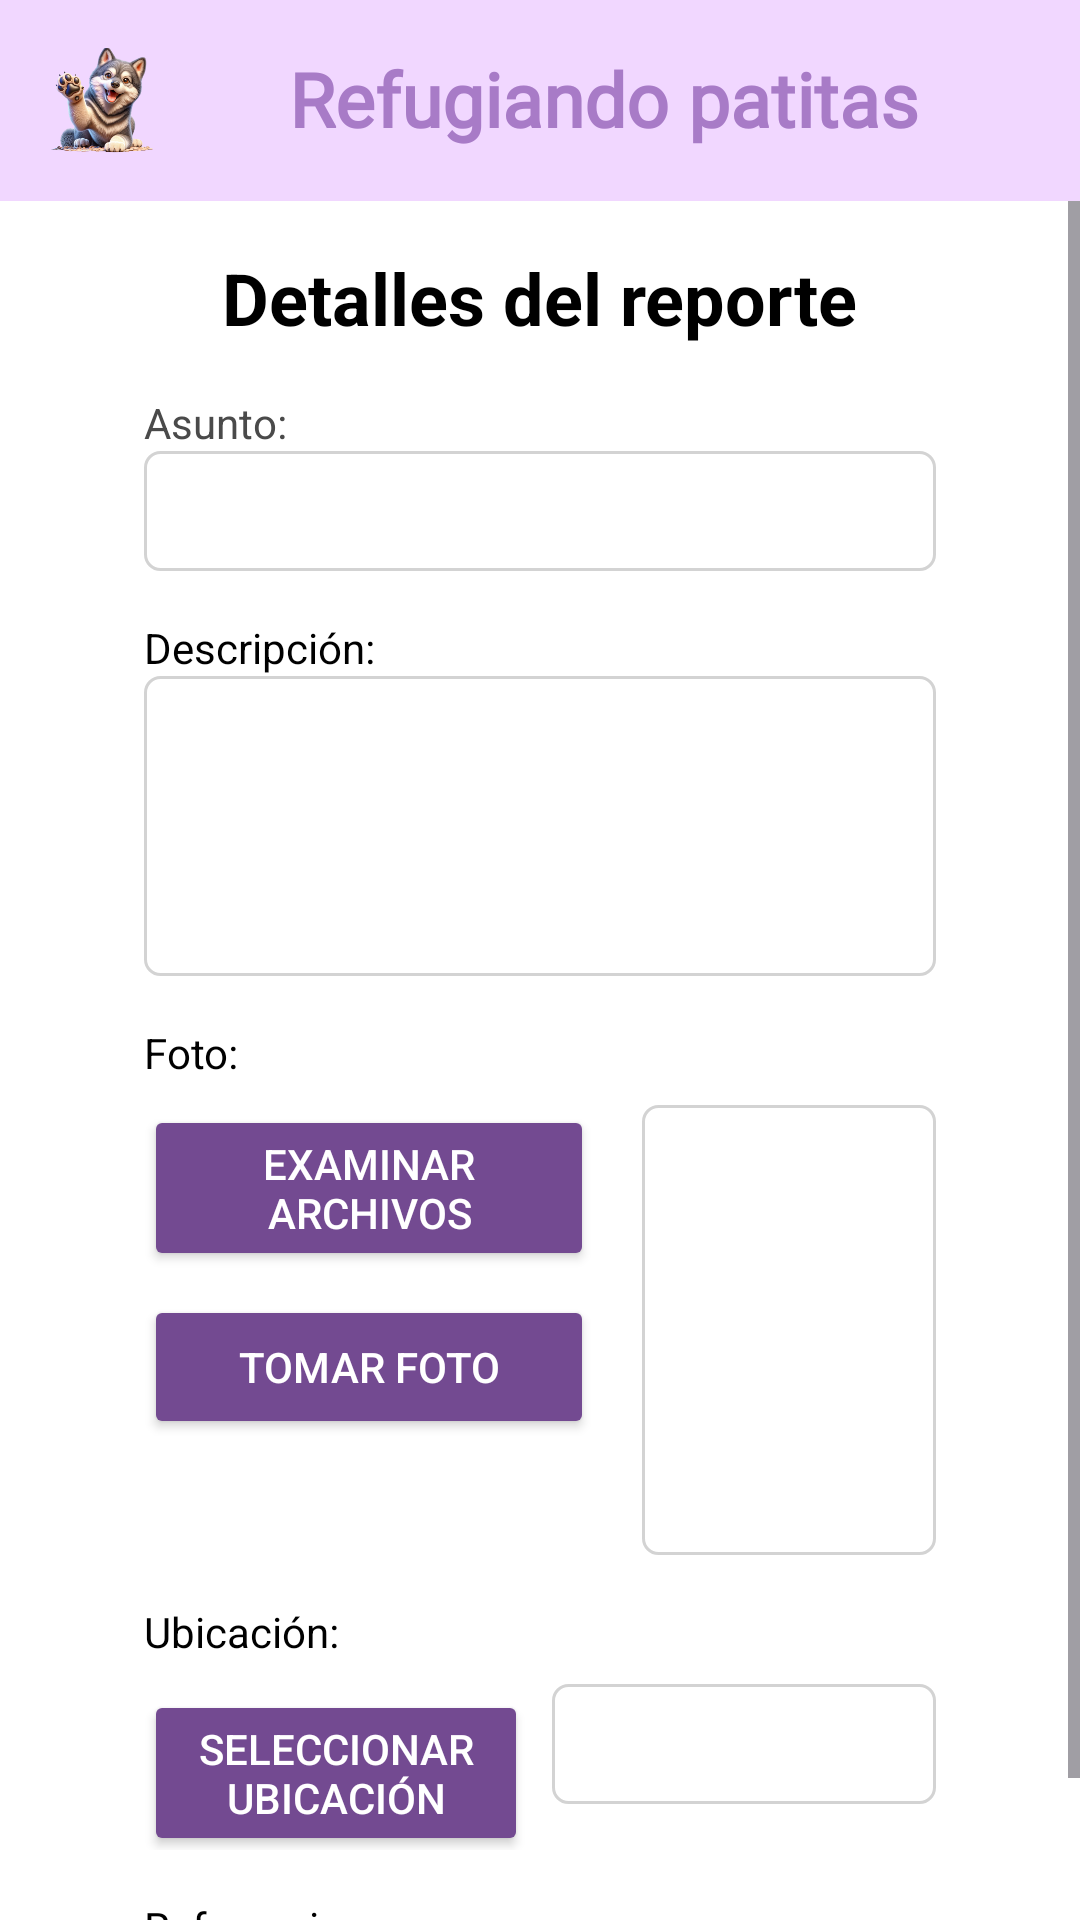

Named icons in this screenshot (1080*1920) and their centers, point (x, y):
perro: point (102, 100)
